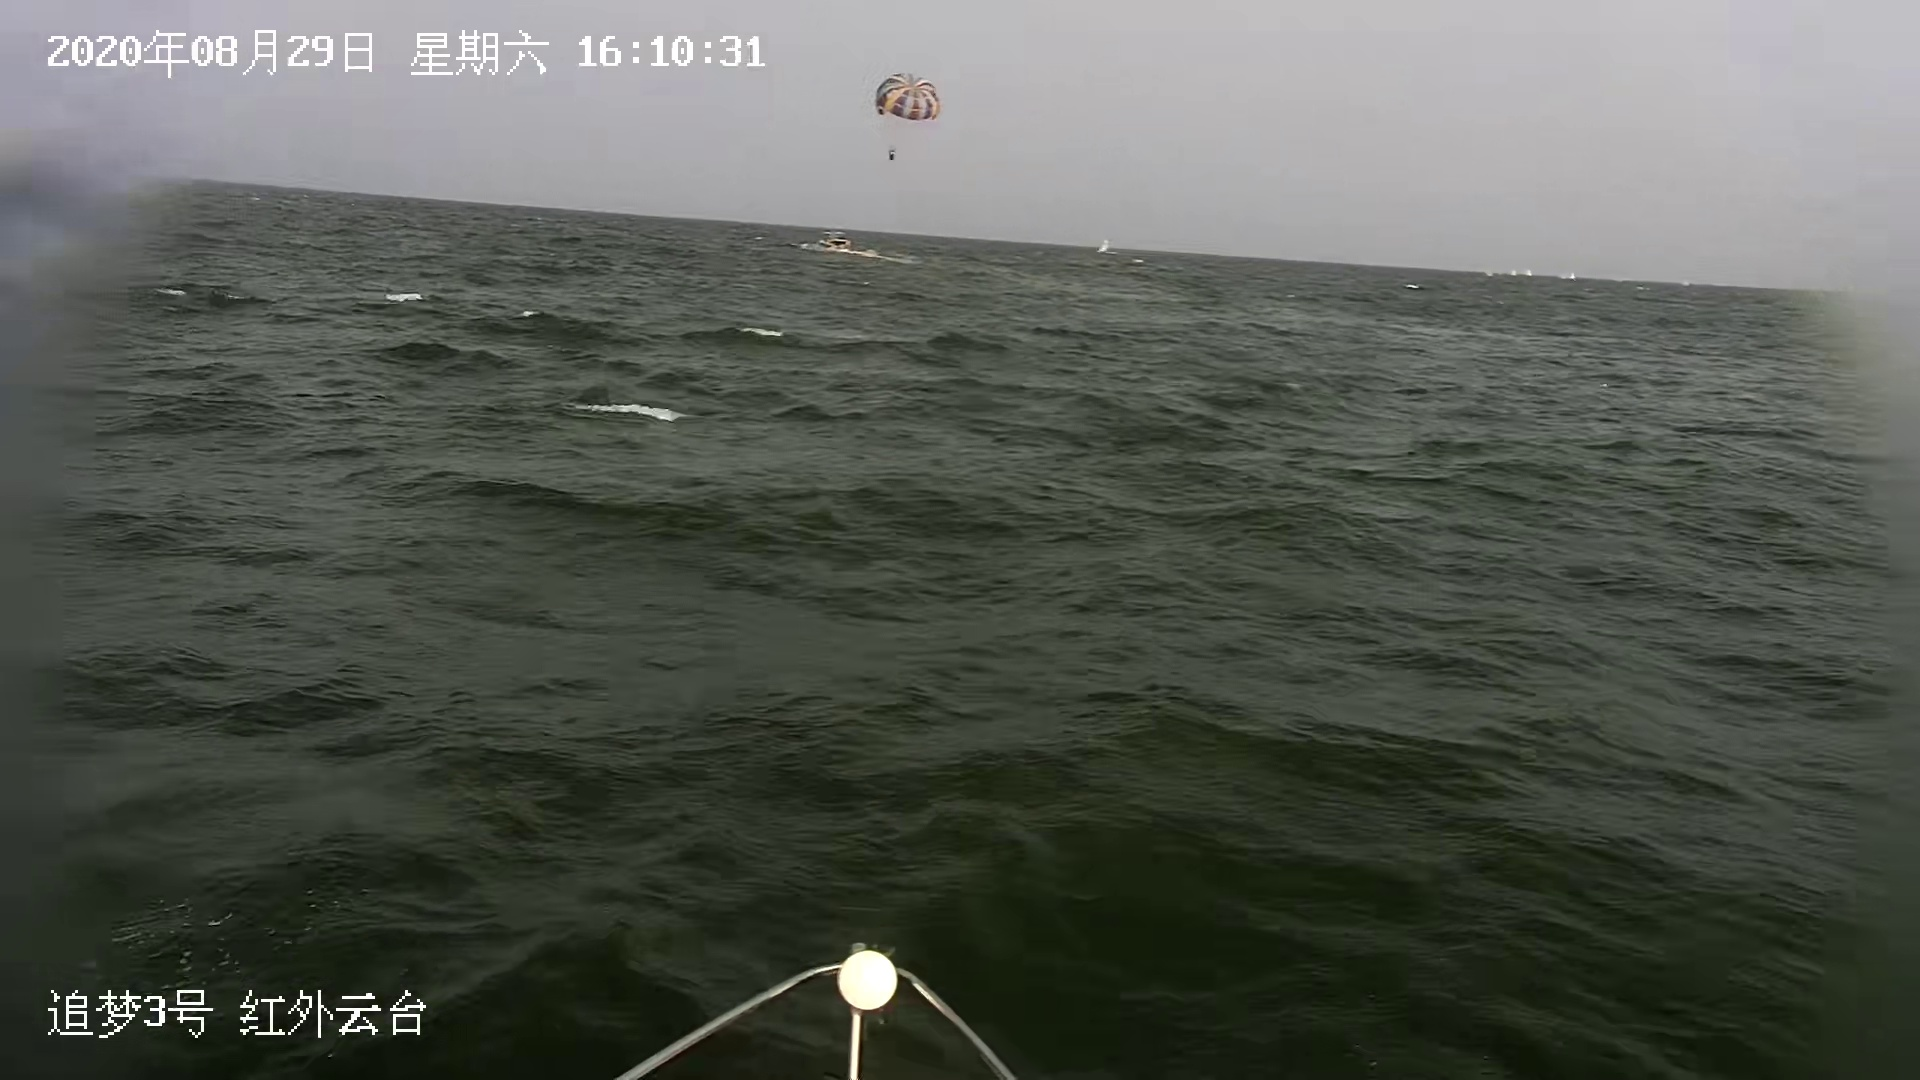barrier: (800, 229, 880, 258), (1098, 235, 1113, 253)
this: (611, 936, 1017, 1079)
